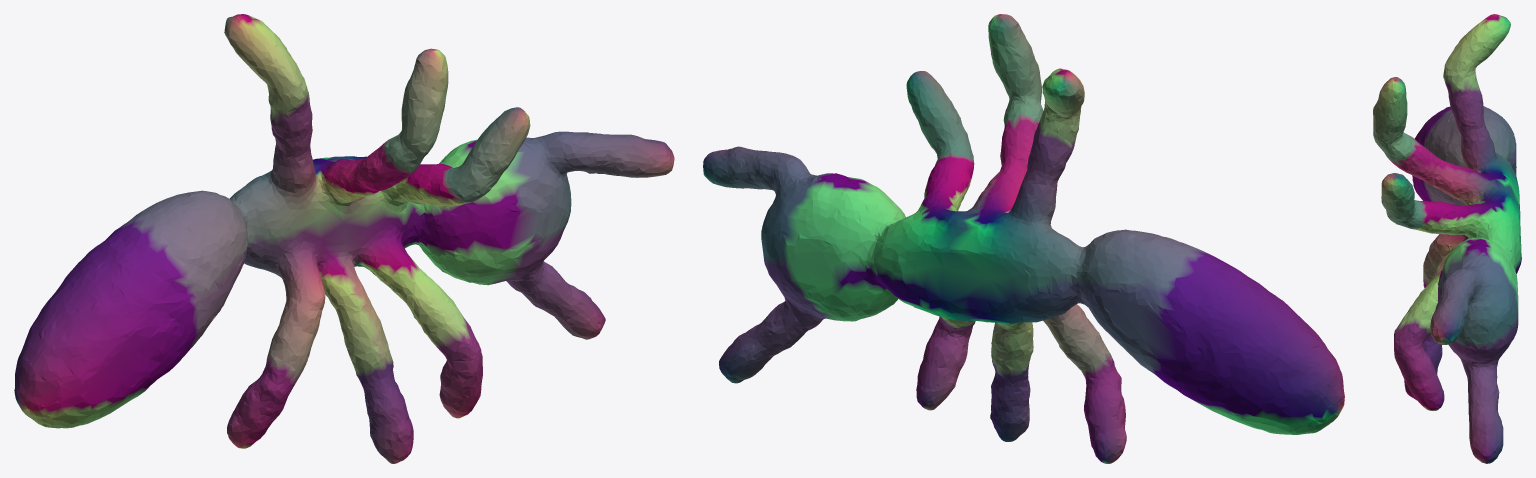
Rendered from ant-12.off.obj.
3 renders of one model, left to right at view 1: azimuth 30°, elevation 25°; view 2: azimuth 150°, elevation 25°; view 3: azimuth 270°, elevation 25°, orthographic. The views are drawn at different scales.
Size of the model in its own units: 1.8 by 1.16 by 0.4523.
